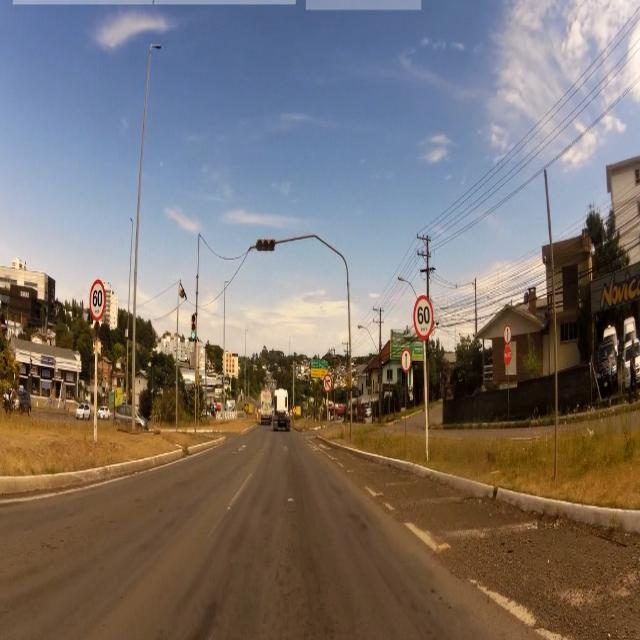R-1: (504, 346, 512, 366)
R-19: (412, 295, 434, 343), (90, 276, 106, 321)
R-26: (400, 348, 412, 374)
